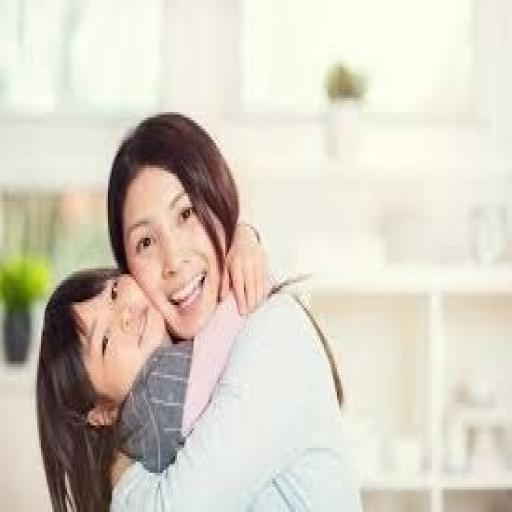hugging: (34, 109, 361, 509)
